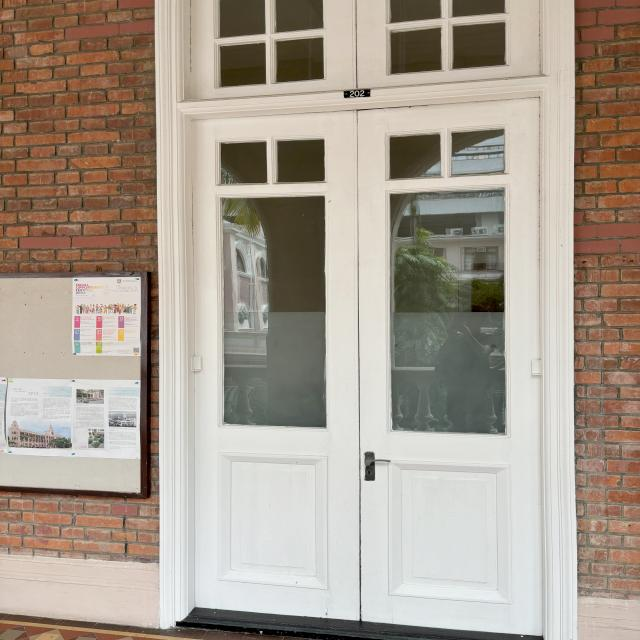MB202_roomNum: (341, 85, 373, 104)
